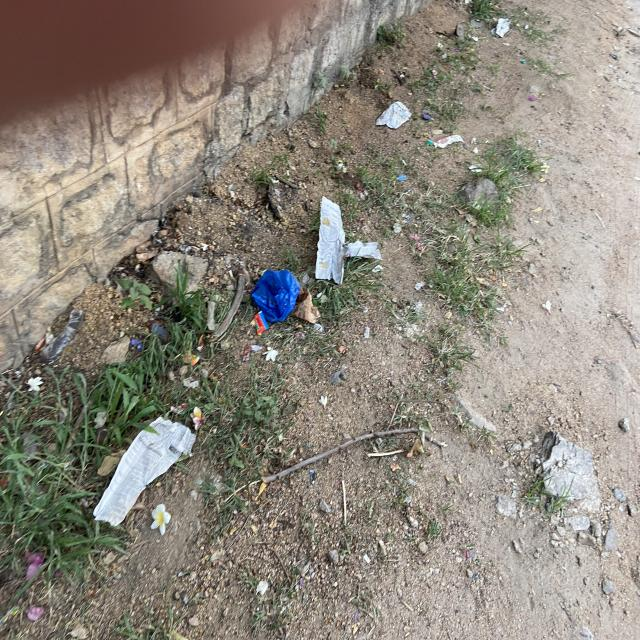paper: (93, 417, 195, 526), (315, 196, 382, 284), (376, 100, 412, 128)
plastic: (252, 269, 300, 322)
wrapper: (254, 311, 268, 334)
